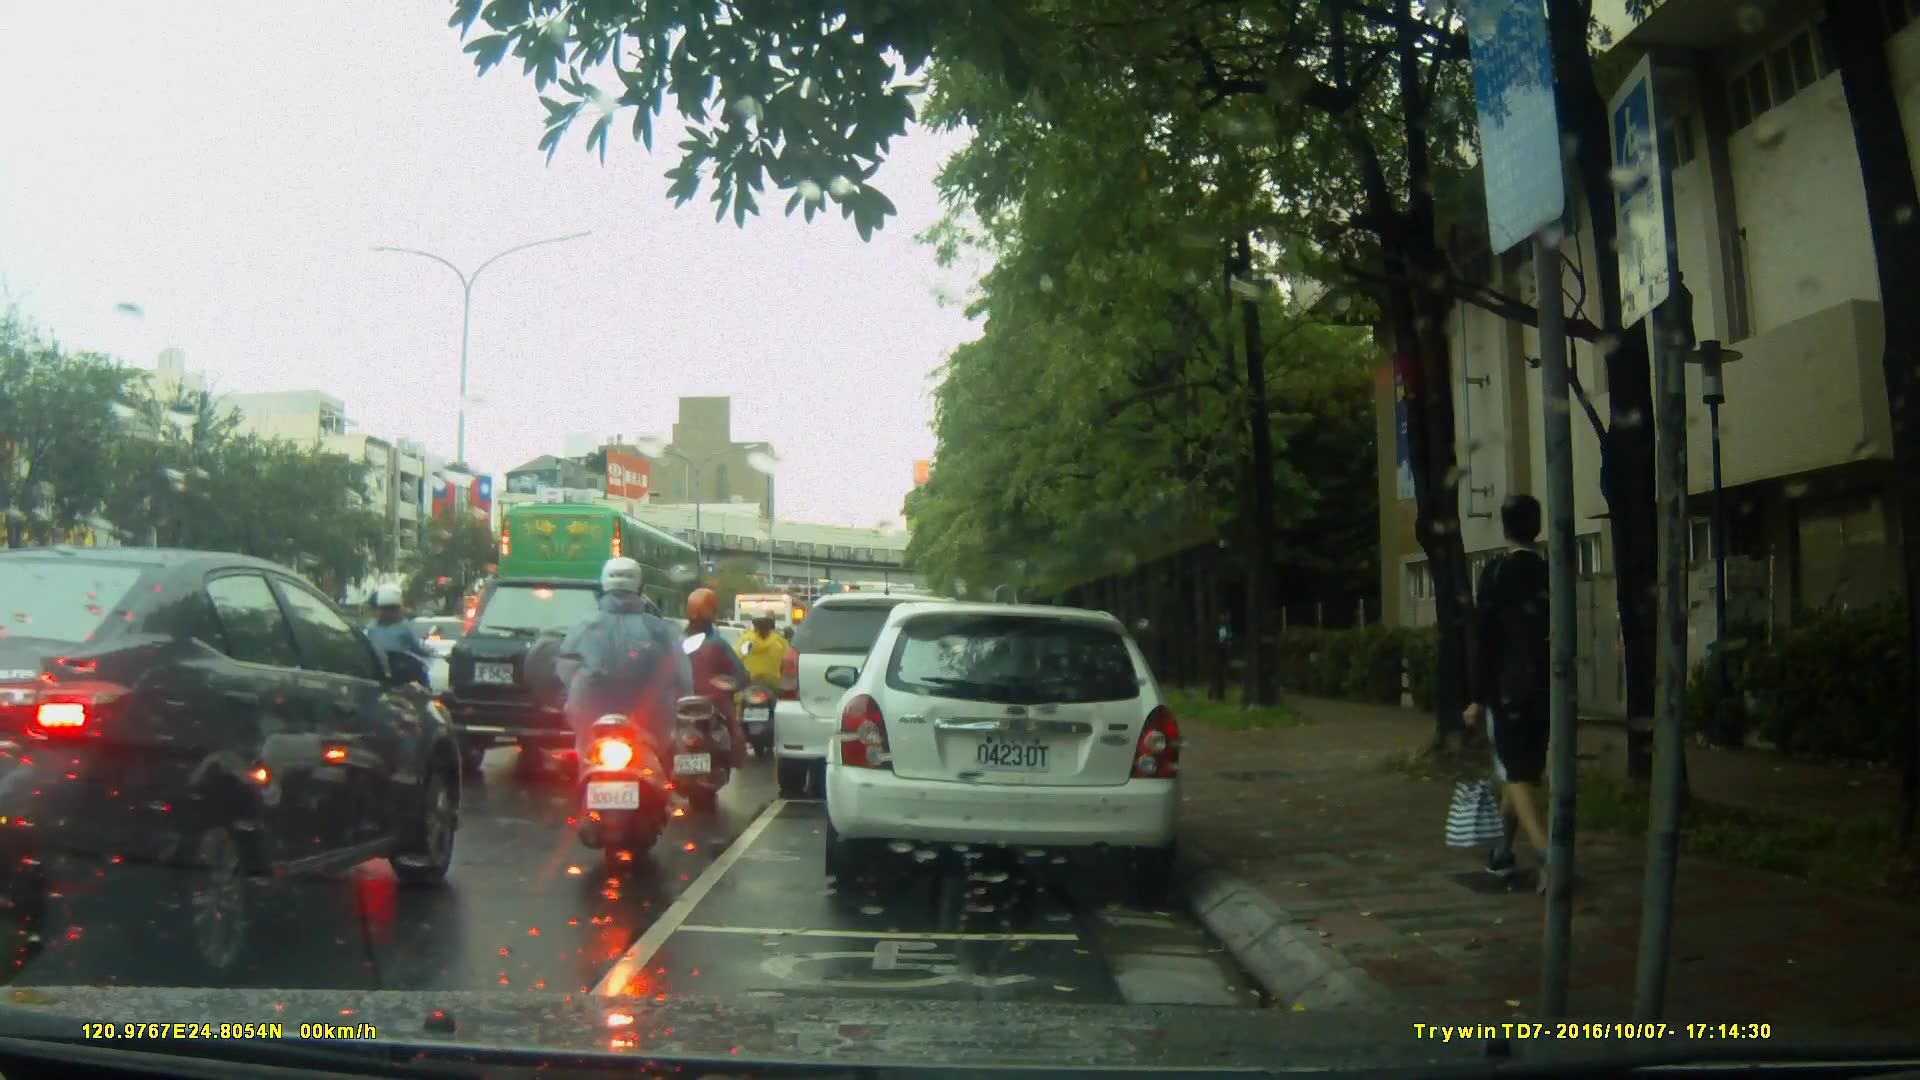pedestrian: (1433, 487, 1600, 886)
rider: (550, 559, 702, 867), (656, 592, 738, 816), (345, 578, 443, 762), (728, 603, 798, 749)
vehicle: (3, 544, 467, 984), (831, 592, 1196, 897), (444, 574, 682, 778), (770, 592, 999, 800), (494, 502, 705, 657)
